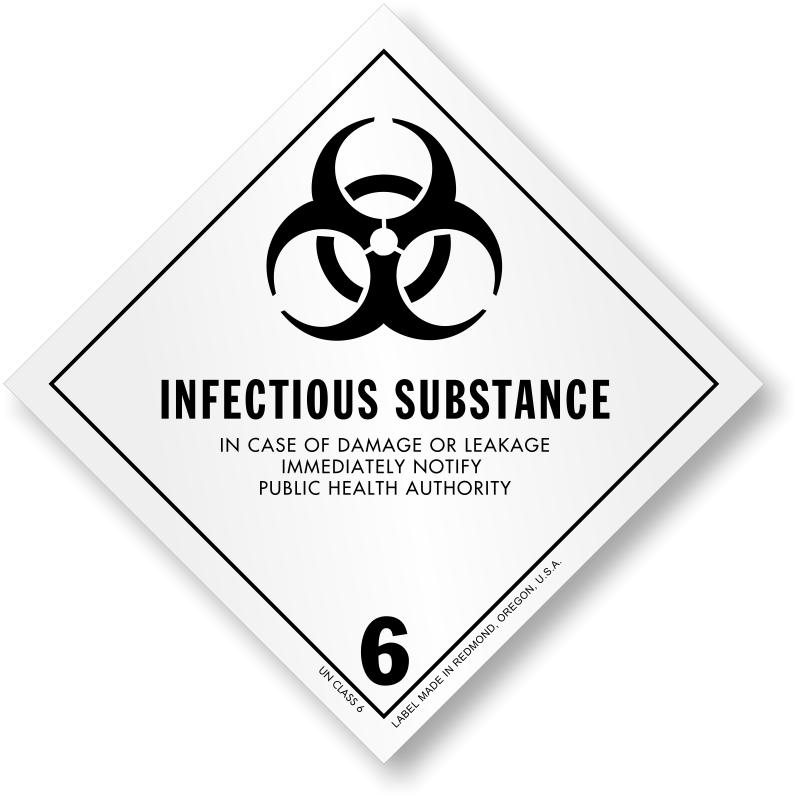InfectiousSubstance: (50, 49, 724, 720)
